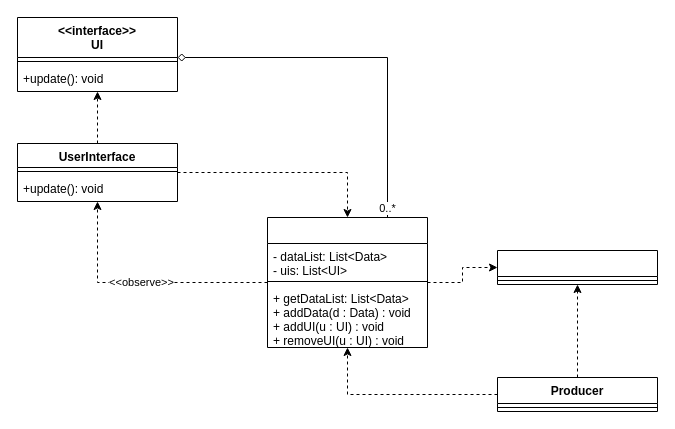
The diagram is 675 pixels wide and 429 high, and some of its shapes have lost their labels. Each missing label, with the box of its shape:
Data: (496, 250, 658, 284)
DataManager: (266, 216, 428, 348)
